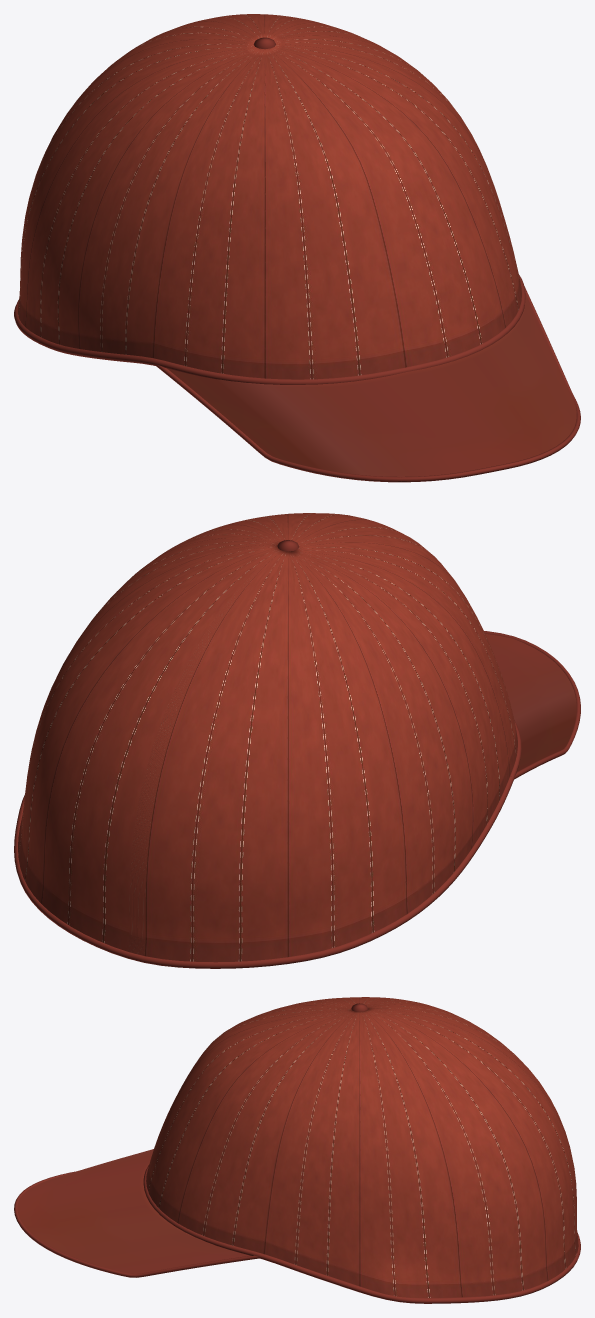
File: cap.glb
3 views of the same model, one above another, from view 1: azimuth 30°, elevation 25°; view 2: azimuth 150°, elevation 25°; view 3: azimuth 270°, elevation 25° (orthographic). The views are drawn at different scales.
Parts seen in each view (by area): view 1: cap; view 2: cap; view 3: cap.
Boxes of the visible parts, x1=… form: cap: x1=14, y1=14, x2=580, y2=482; cap: x1=14, y1=513, x2=580, y2=968; cap: x1=14, y1=997, x2=580, y2=1303.
Bounding box in the file's own units: 1.09 × 0.7898 × 1.68.
Materials: 2 (1 with a texture image).
